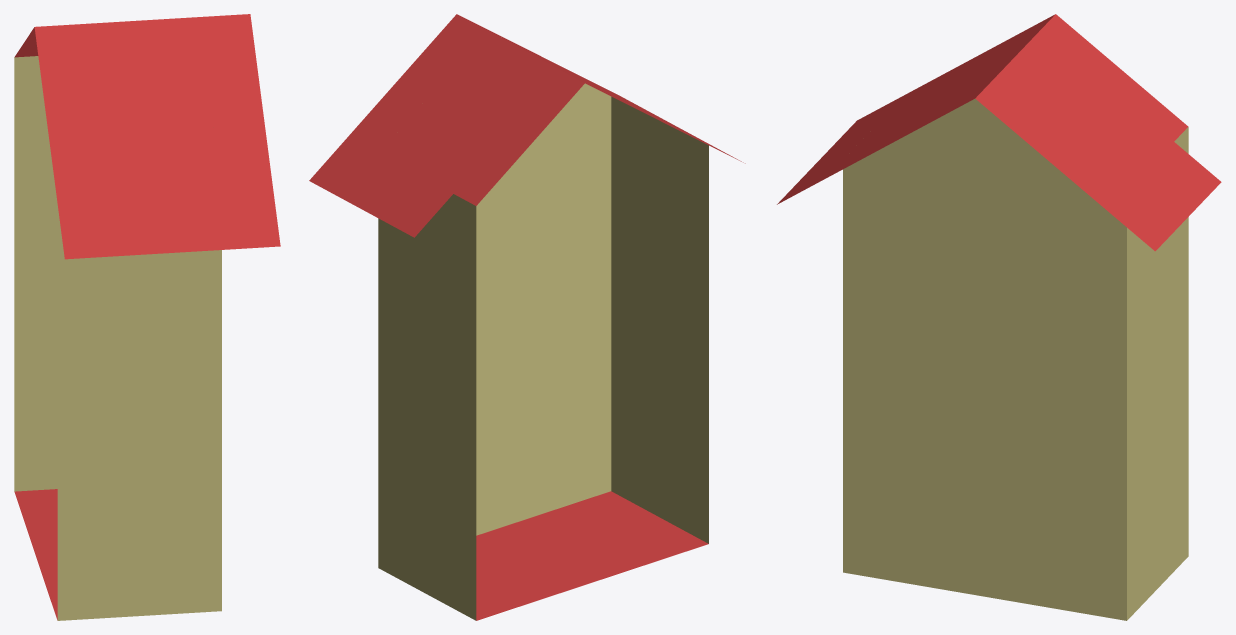
The picture shows the model from 3 angles, left to right: view 1: azimuth 30°, elevation 25°; view 2: azimuth 150°, elevation 25°; view 3: azimuth 270°, elevation 25°; orthographic projection. The views are drawn at different scales.
Size of the model in its own units: 6.89 by 8.69 by 11.19.
